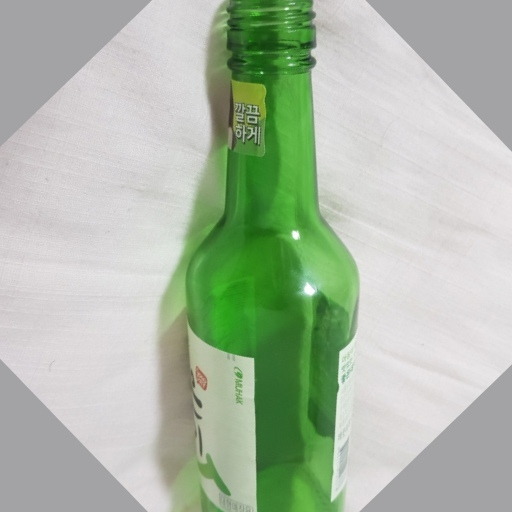Glass_0: (184, 2, 362, 511)
